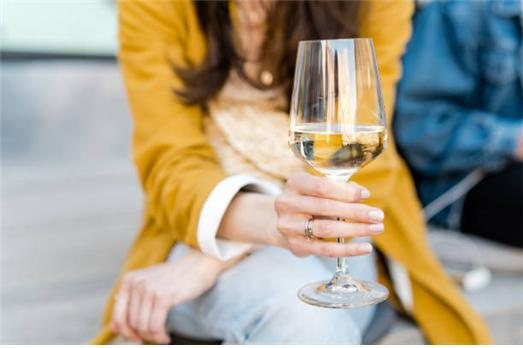alcohol: (287, 37, 389, 310)
